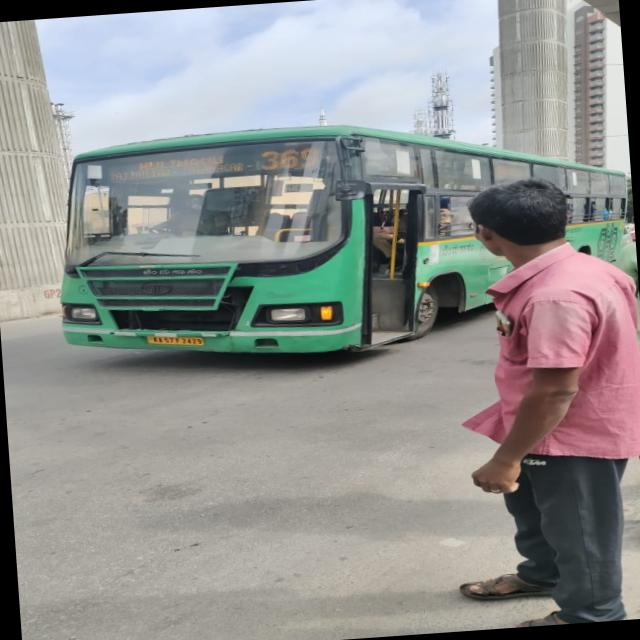bus: (40, 105, 640, 372)
display: (101, 144, 323, 182)
dnumber: (258, 146, 320, 170)
